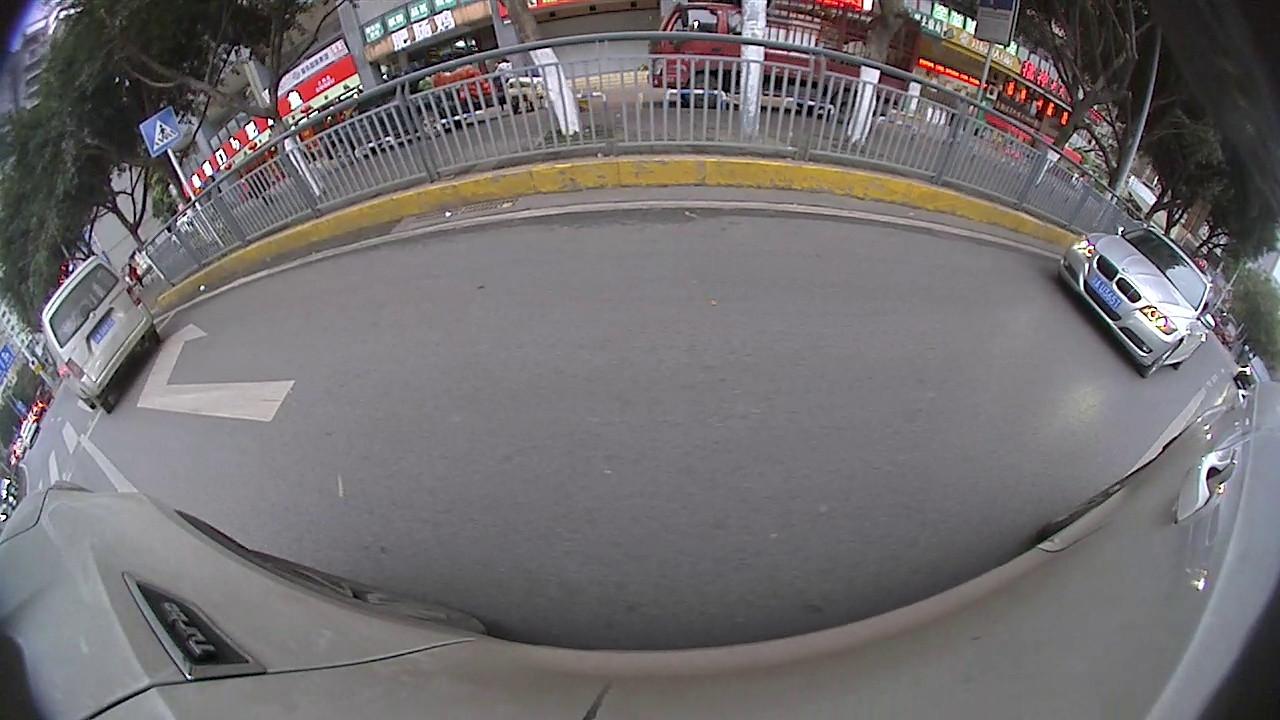car: (1051, 219, 1220, 383), (36, 251, 165, 417)
front: (685, 70, 724, 108)
truck: (643, 2, 922, 120)
